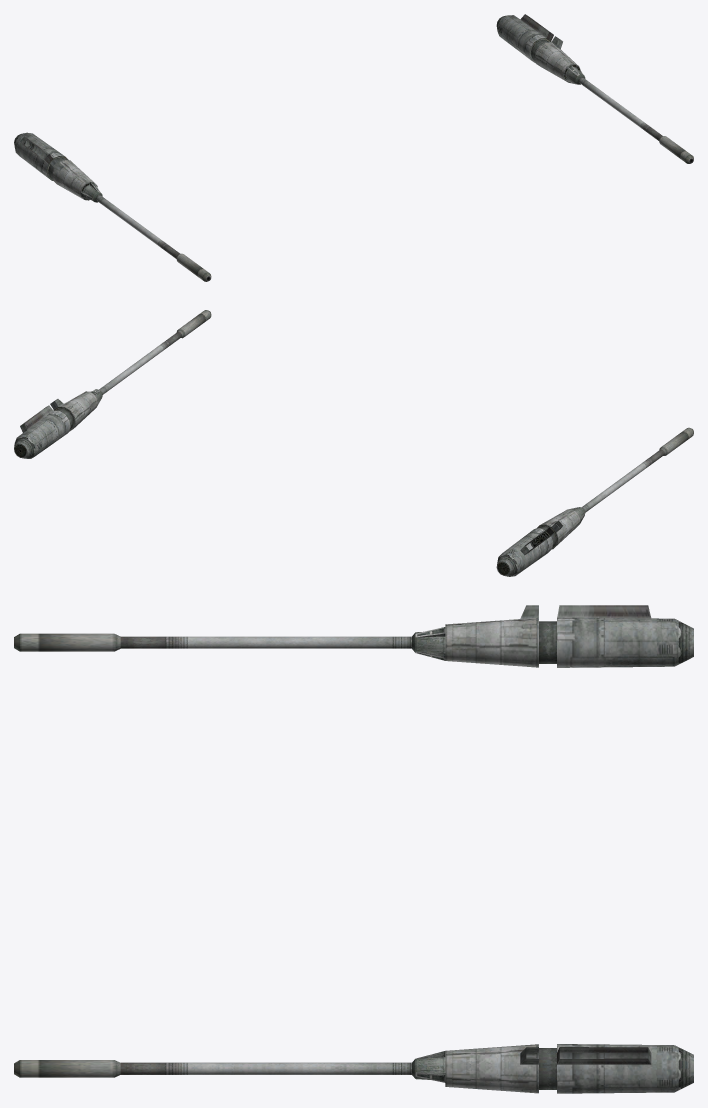
The model's file is hutt_fighter_medium_weapon2_s05_l0.fbx.
The picture shows the model from 3 angles, top to bottom: view 1: azimuth 30°, elevation 25°; view 2: azimuth 150°, elevation 25°; view 3: azimuth 270°, elevation 25°; orthographic projection. The views are drawn at different scales.
Parts seen in each view (by area): view 1: mesh_node; view 2: mesh_node; view 3: mesh_node.
Boxes of the visible parts, <box> form: mesh_node: <box>14,14,693,281</box>; mesh_node: <box>14,310,693,576</box>; mesh_node: <box>14,605,693,1093</box>.
Size of the model in its own units: 13.79 by 0.749 by 8.8.
Materials: 1 (1 with a texture image).
